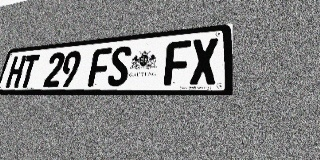2: (43, 52, 66, 87)
9: (58, 50, 82, 87)
F: (164, 40, 191, 85), (87, 47, 112, 87)
H: (5, 55, 26, 88)
S: (107, 46, 132, 86)
T: (18, 54, 40, 88)
X: (190, 37, 218, 85)
